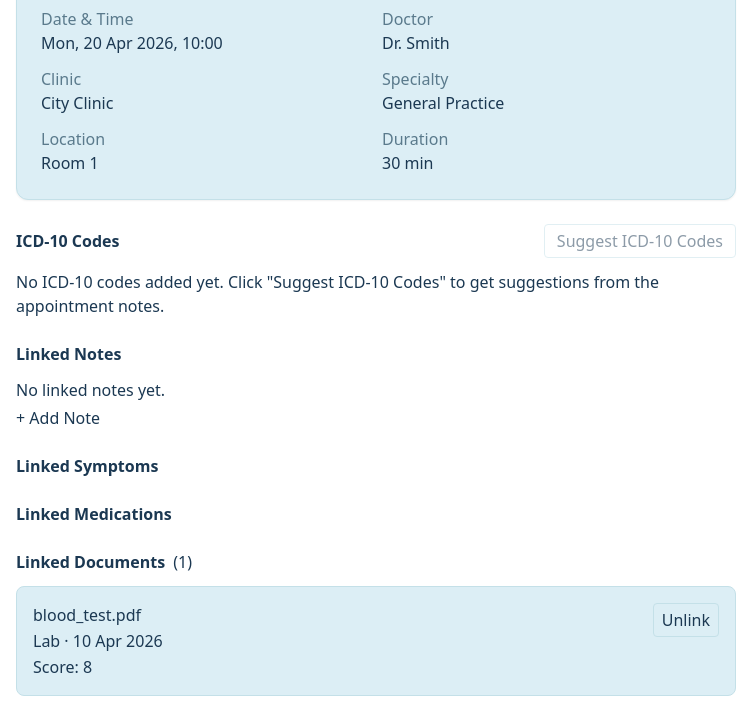
AppointmentDetailClient › removes document from list after unlink
(page scrolled)
Expected: the link "blood_test.pdf" is shown, x1=33 y1=604 x2=141 y2=626
Click the button with aria-label "Unlink blood_test.pdf": x=686, y=620 x1=653 y1=603 x2=719 y2=637
(page scrolled)
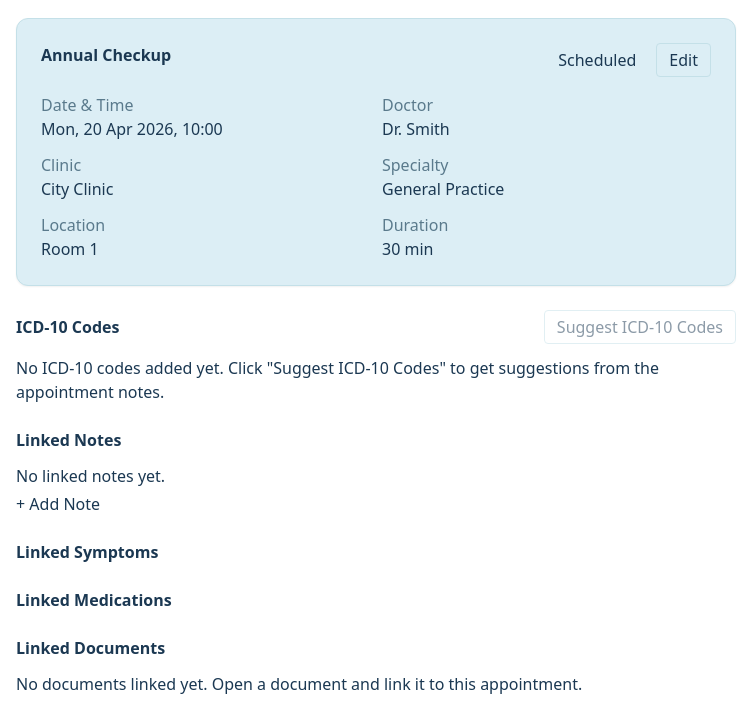
Now the link "blood_test.pdf" is gone
